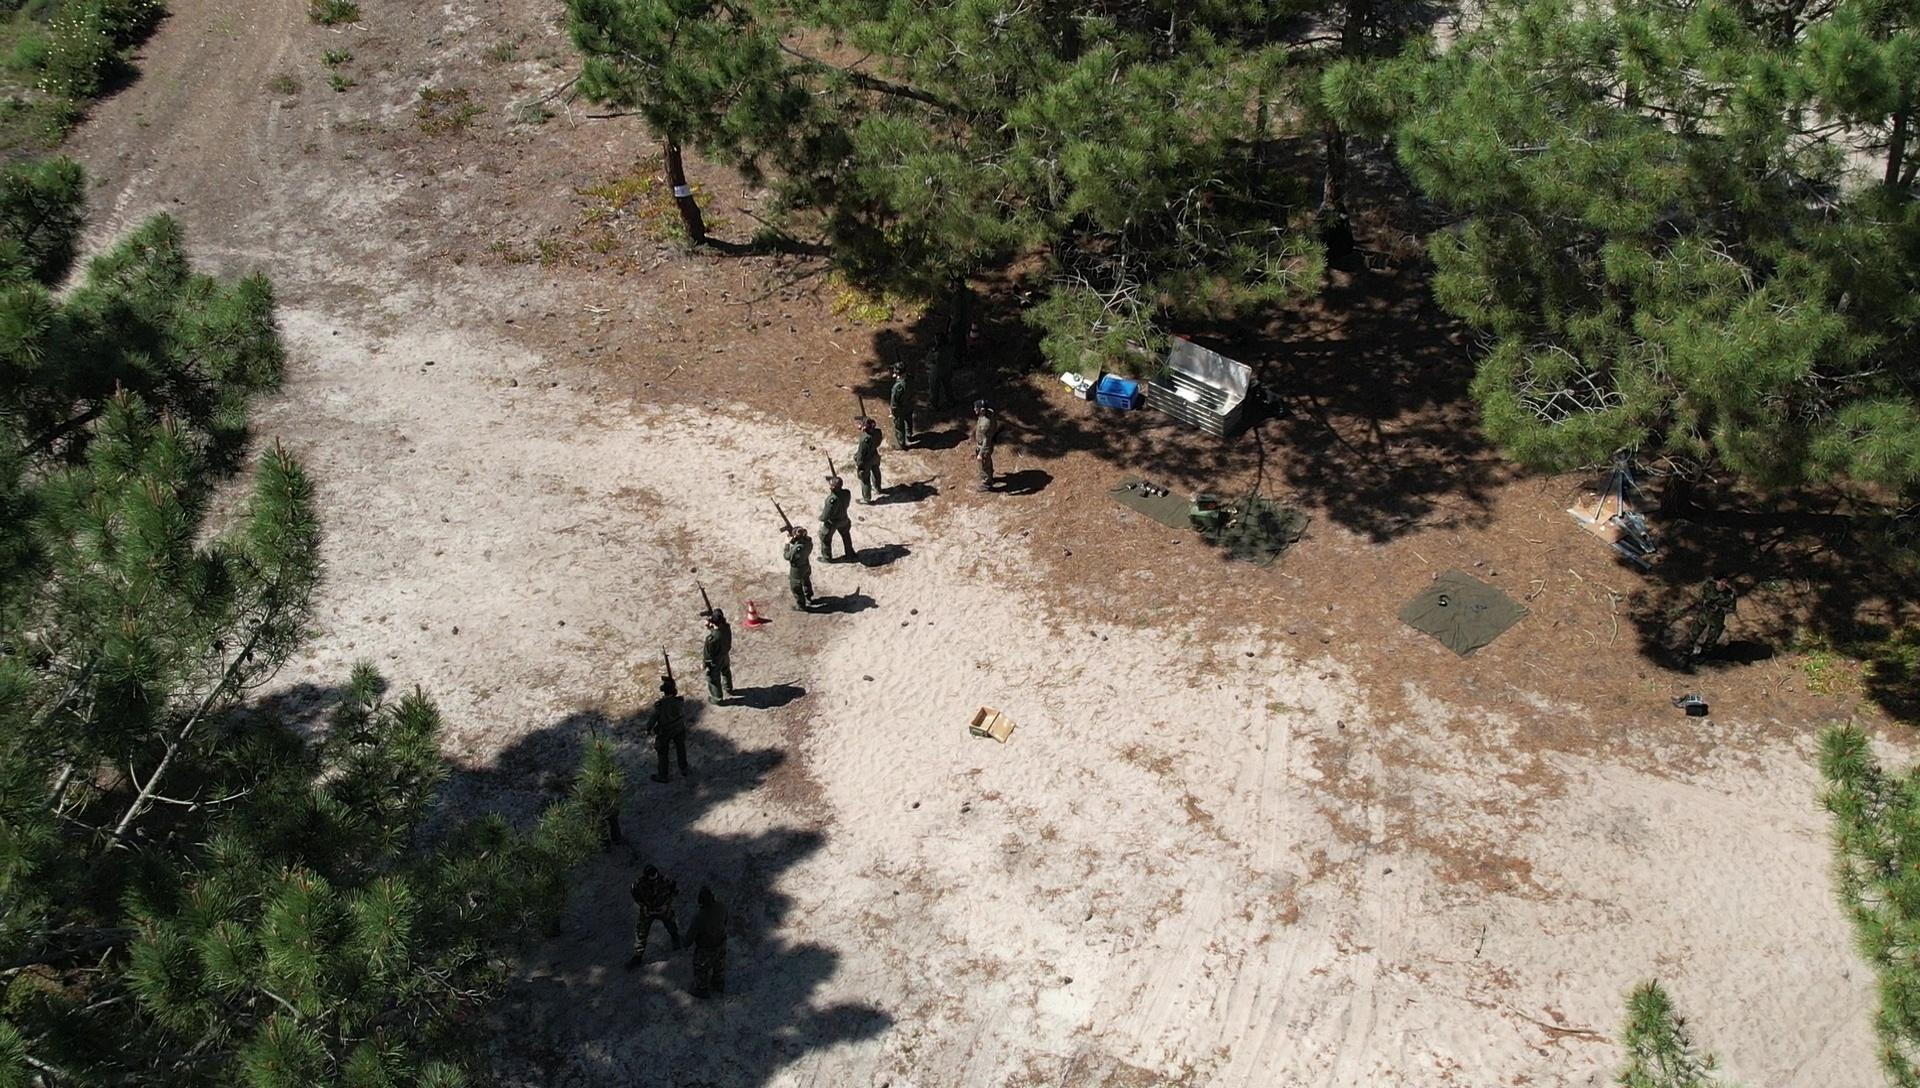Soldier: (646, 653, 694, 806), (629, 847, 686, 971), (621, 851, 688, 950), (694, 591, 742, 719), (775, 510, 823, 629), (554, 760, 604, 866), (815, 458, 856, 586), (785, 493, 824, 622), (884, 343, 930, 451), (1687, 570, 1735, 659), (963, 400, 1004, 500), (919, 320, 951, 419)
